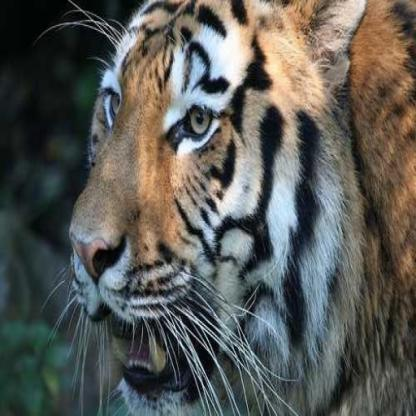Tiger: (40, 0, 415, 387)
